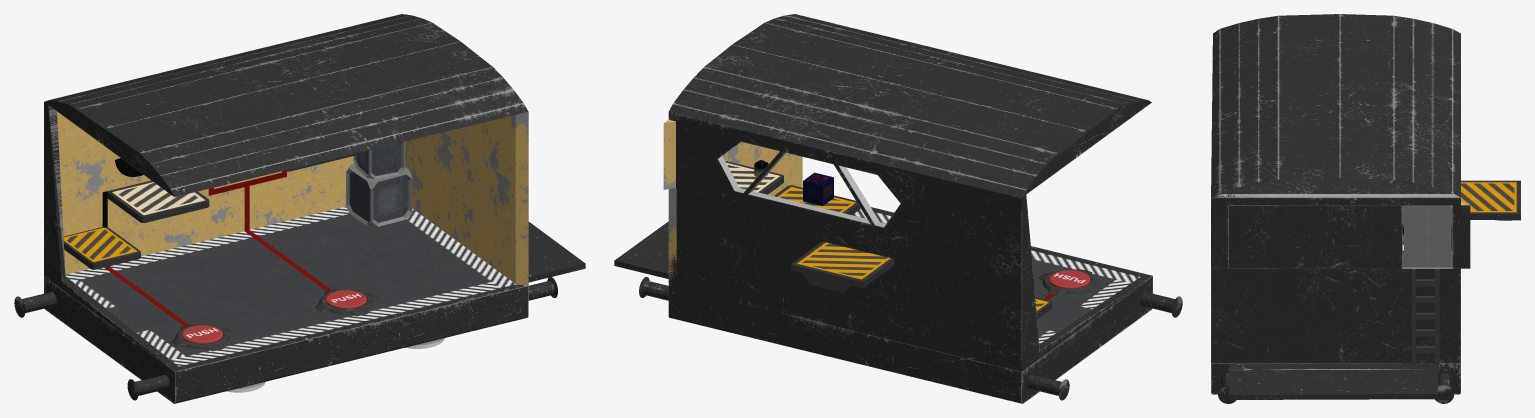
File: level5.obj
3 renders of one model, left to right at view 1: azimuth 30°, elevation 25°; view 2: azimuth 150°, elevation 25°; view 3: azimuth 270°, elevation 25°, orthographic. The views are drawn at different scales.
Parts seen in each view (by area): view 1: F_floor_1.002, R_roof_1.002, W_back_wall_1.002, W_right_wall_down_1.002, W_left_wall_1.002, Y_decoBox1_4.004, S_door_platform_1.002, W_right_wall_left_1.002, M_06_moving_platform_6, X_Przejscie5, J_07_kable2.003, W_right_wall_right_1.002 (+4 smaller); view 2: W_back_wall_1.002, R_roof_1.002, F_floor_1.002, W_left_wall_1.002, M_07_question_platform_7, W_right_wall_down_1.002, X_Przejscie5, S_door_platform_1.001, W_right_wall_right_1.002, E_box_5, M_07_question_platform_8, C_01_preasure_plate_decoration_1.001 (+1 smaller); view 3: R_roof_1.002, W_right_wall_down_1.002, W_right_wall_left_1.002, X_Przejscie5, W_right_wall_up_1.002, W_right_wall_right_1.002, M_07_question_platform_7, F_floor_1.002, X_Drabina5, D_left_door_5, D_right_door_5.
Part boxes in pixels (x1=…): F_floor_1.002: x1=14, y1=206, x2=557, y2=403; R_roof_1.002: x1=49, y1=14, x2=528, y2=196; W_back_wall_1.002: x1=57, y1=111, x2=354, y2=274; W_right_wall_down_1.002: x1=405, y1=132, x2=528, y2=285; W_left_wall_1.002: x1=44, y1=100, x2=178, y2=371; Y_decoBox1_4.004: x1=346, y1=141, x2=412, y2=226; S_door_platform_1.002: x1=107, y1=180, x2=209, y2=222; W_right_wall_left_1.002: x1=444, y1=116, x2=511, y2=180; M_06_moving_platform_6: x1=63, y1=227, x2=140, y2=269; X_Przejscie5: x1=528, y1=222, x2=585, y2=282; J_07_kable2.003: x1=208, y1=171, x2=331, y2=291; W_right_wall_right_1.002: x1=511, y1=115, x2=528, y2=186; W_back_wall_1.002: x1=668, y1=112, x2=1021, y2=371; R_roof_1.002: x1=669, y1=14, x2=1148, y2=197; F_floor_1.002: x1=639, y1=207, x2=1182, y2=403; W_left_wall_1.002: x1=1021, y1=100, x2=1152, y2=371; M_07_question_platform_7: x1=791, y1=241, x2=894, y2=292; W_right_wall_down_1.002: x1=668, y1=142, x2=802, y2=285; X_Przejscie5: x1=614, y1=221, x2=668, y2=278; S_door_platform_1.001: x1=725, y1=161, x2=783, y2=194; W_right_wall_right_1.002: x1=663, y1=119, x2=675, y2=189; E_box_5: x1=803, y1=172, x2=833, y2=205; M_07_question_platform_8: x1=774, y1=185, x2=859, y2=214; C_01_preasure_plate_decoration_1.001: x1=1038, y1=269, x2=1101, y2=295; R_roof_1.002: x1=1211, y1=14, x2=1460, y2=197; W_right_wall_down_1.002: x1=1211, y1=267, x2=1460, y2=363; W_right_wall_left_1.002: x1=1229, y1=205, x2=1402, y2=268; X_Przejscie5: x1=1229, y1=363, x2=1437, y2=399; W_right_wall_up_1.002: x1=1211, y1=194, x2=1460, y2=205; W_right_wall_right_1.002: x1=1211, y1=202, x2=1470, y2=268; M_07_question_platform_7: x1=1461, y1=180, x2=1520, y2=220; F_floor_1.002: x1=1211, y1=363, x2=1460, y2=403; X_Drabina5: x1=1411, y1=268, x2=1439, y2=364; D_left_door_5: x1=1427, y1=205, x2=1452, y2=267; D_right_door_5: x1=1402, y1=205, x2=1427, y2=267.
Bounding box in the file's own units: 14.32 × 7.33 × 8.91.
Materials: 17 (16 with a texture image).
